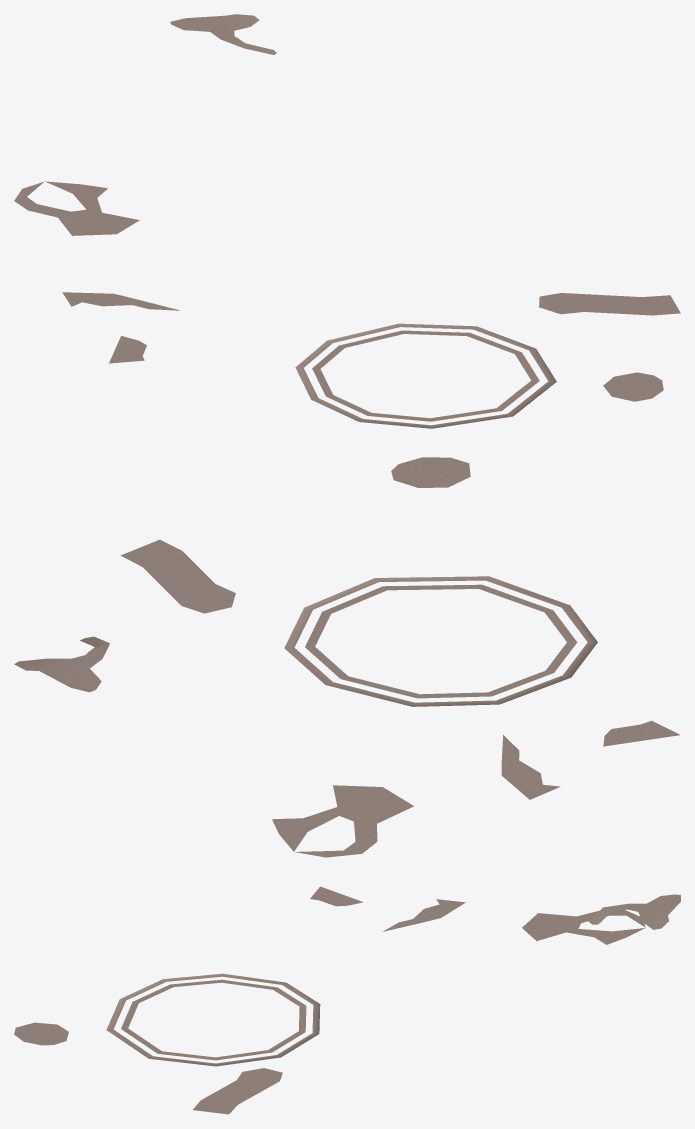
The model's file is kd_stage_136599_16_2.glb.
The picture shows the model from 3 angles, top to bottom: view 1: azimuth 30°, elevation 25°; view 2: azimuth 150°, elevation 25°; view 3: azimuth 270°, elevation 25°; orthographic projection. The views are drawn at different scales.
Parts seen in each view (by area): view 1: kd_stage_136599_16_2; view 2: kd_stage_136599_16_2; view 3: kd_stage_136599_16_2.
Part boxes in pixels (x1,y1,x2,y2): kd_stage_136599_16_2: (14,14,680,428); kd_stage_136599_16_2: (14,457,679,857); kd_stage_136599_16_2: (14,886,680,1114).
Size of the model in its own units: 207 by 59.21 by 273.
Materials: 1 (1 with a texture image).
